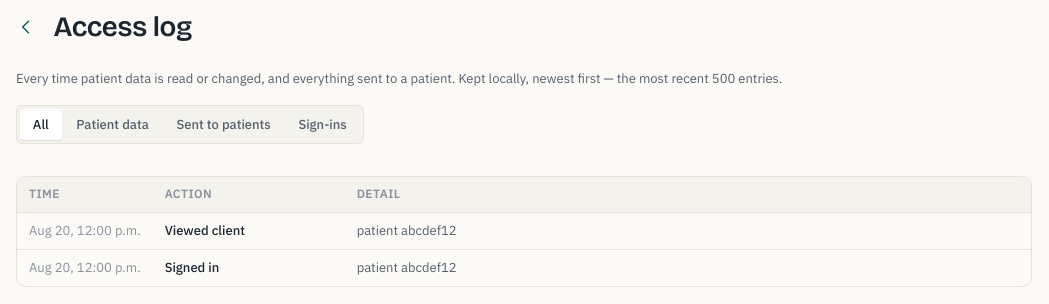
Test: AuditLog › returns to everything when All is chosen again
Check: the text "Viewed client" is shown, box 153,213 -> 345,250
Click the button "Patient data" at (113, 125), box 64,109 -> 162,140
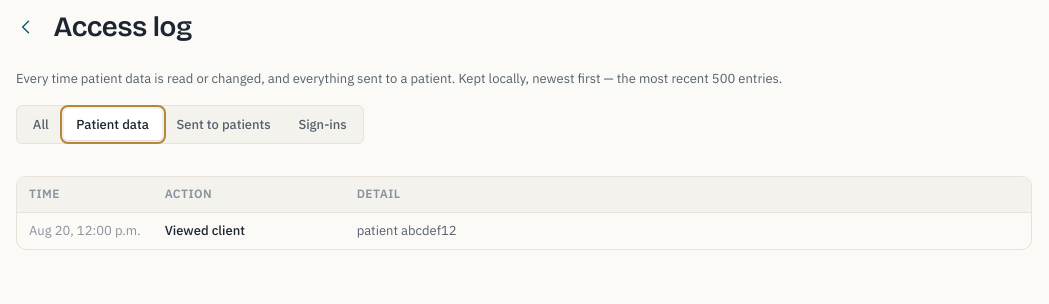
Check: the text "Signed in" is gone
Click the button "All" at (41, 125), box 20,109 -> 62,140
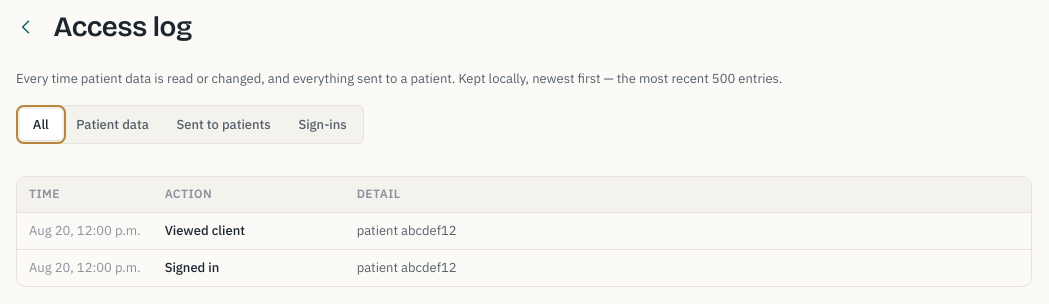
Check: the text "Signed in" is shown, box 153,250 -> 345,286
